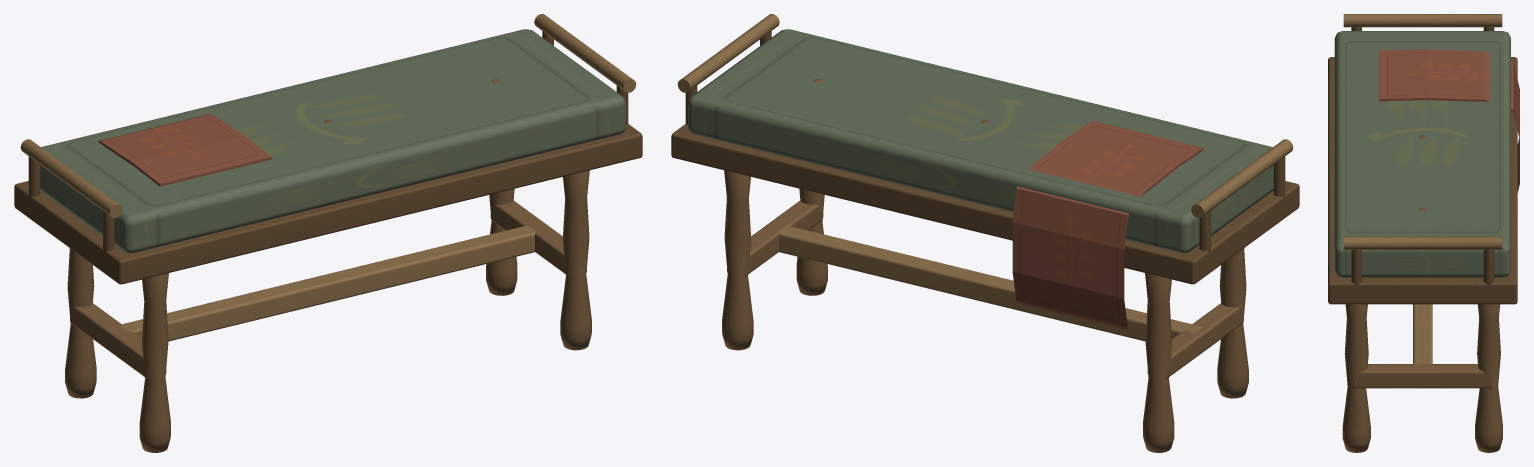
The model's file is banco.glb.
The picture shows the model from 3 angles, left to right: view 1: azimuth 30°, elevation 25°; view 2: azimuth 150°, elevation 25°; view 3: azimuth 270°, elevation 25°; orthographic projection. The views are drawn at different scales.
Parts seen in each view (by area): view 1: banco; view 2: banco; view 3: banco.
Boxes of the visible parts, x1,y1,x2,y2 form: banco: [14, 14, 642, 452]; banco: [671, 14, 1299, 452]; banco: [1328, 14, 1519, 452].
Size of the model in its own units: 1.23 by 0.578 by 0.435.
1 material, 1 textured.
